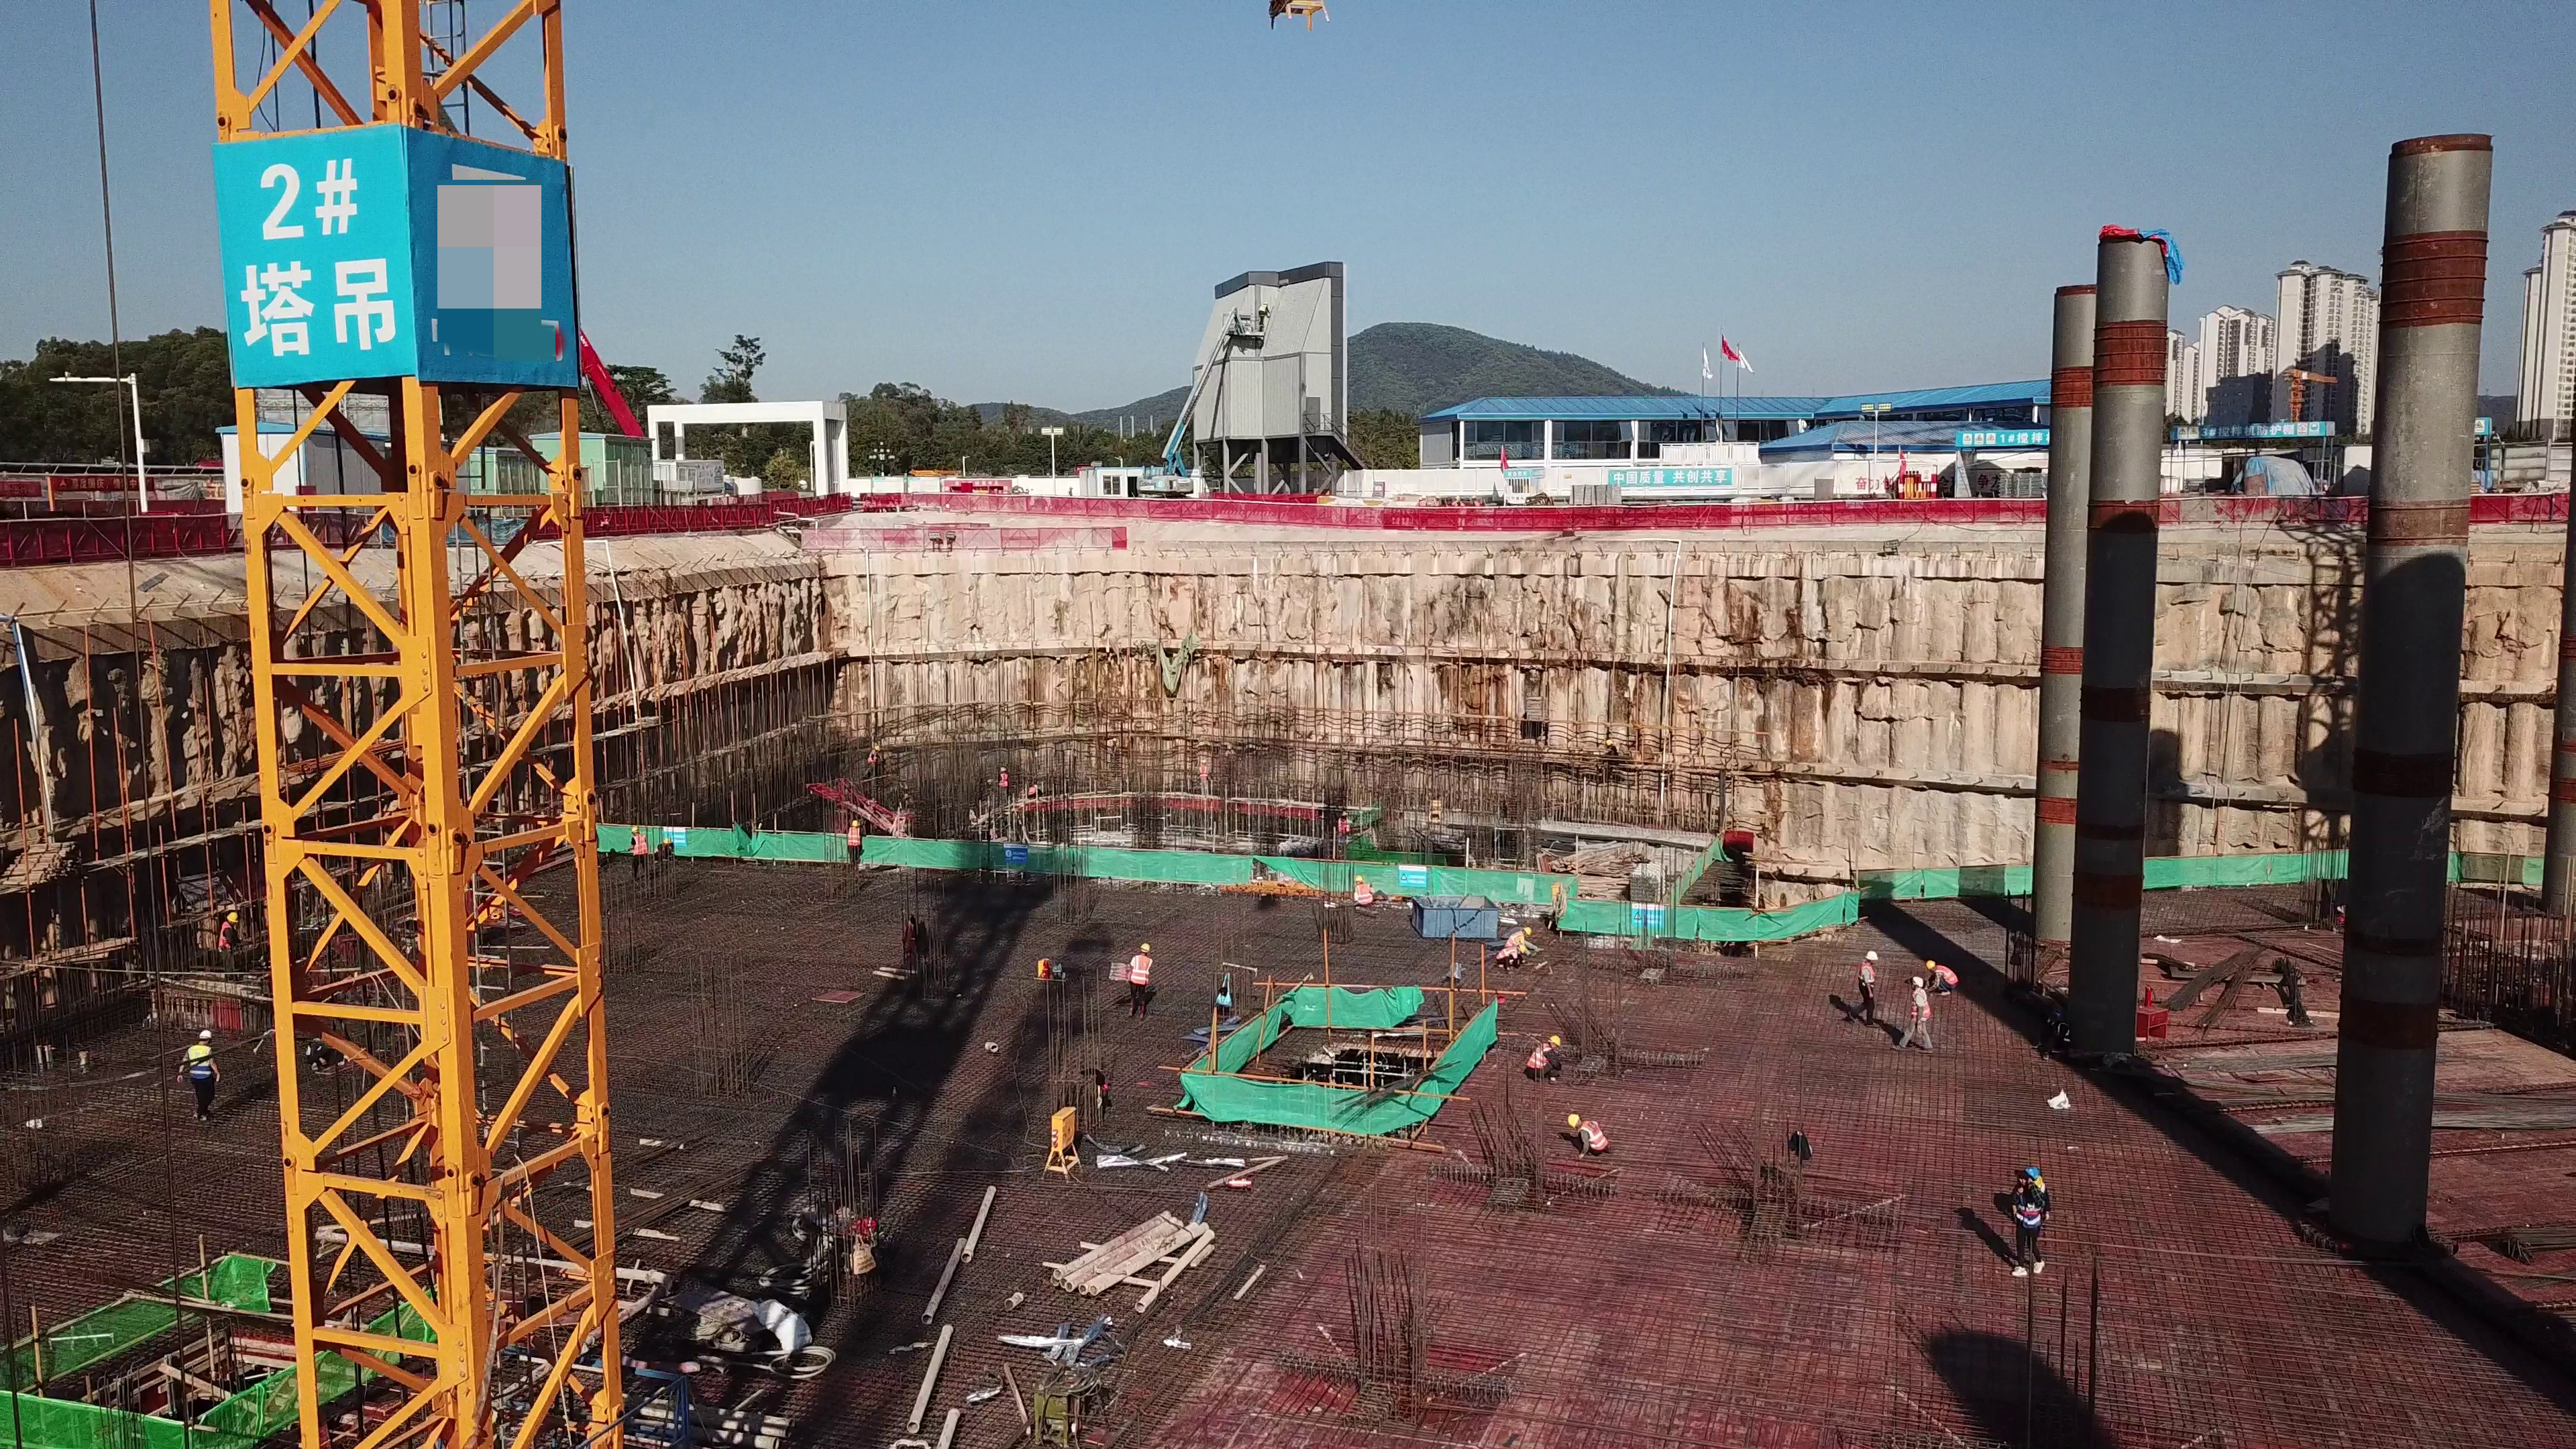brick: (1567, 473, 1621, 507)
ebox: (1046, 1108, 1101, 1179)
fence: (1383, 499, 1891, 538), (617, 502, 804, 540)
helmet: (2025, 1168, 2043, 1181), (1568, 1114, 1580, 1130), (197, 1030, 213, 1040), (227, 913, 241, 926), (1140, 943, 1154, 955), (1549, 1035, 1562, 1047), (1522, 926, 1534, 936), (1353, 875, 1367, 882), (1909, 976, 1923, 986), (1866, 949, 1876, 961), (1925, 958, 1933, 969), (1517, 944, 1526, 954), (661, 837, 672, 843), (873, 744, 882, 750), (631, 825, 639, 832), (851, 820, 860, 826), (999, 766, 1008, 771)
hopper: (1413, 878, 1503, 949)
person: (2006, 1161, 2060, 1280), (172, 1026, 228, 1130), (1126, 938, 1163, 1027), (1854, 944, 1883, 1035), (1899, 975, 1930, 1054), (1566, 1110, 1617, 1157), (1529, 1035, 1566, 1093), (217, 906, 244, 972), (843, 816, 868, 878), (1926, 955, 1960, 1000), (627, 822, 651, 875), (1192, 757, 1217, 802), (1352, 871, 1377, 910), (1495, 943, 1528, 971), (992, 763, 1012, 804), (864, 743, 883, 780), (1503, 926, 1534, 946), (1025, 784, 1049, 807), (1604, 737, 1623, 755)
scaffold: (1631, 866, 1666, 904)
slogan: (222, 144, 418, 381), (2176, 418, 2328, 447), (1946, 426, 2062, 456), (1606, 465, 1729, 489)
vest: (2013, 1183, 2043, 1229), (188, 1046, 209, 1083), (1582, 1122, 1608, 1149), (1911, 989, 1932, 1022), (219, 924, 240, 952), (1132, 954, 1149, 986), (1529, 1042, 1549, 1068), (1937, 967, 1960, 988), (1858, 963, 1872, 989), (631, 835, 647, 859), (848, 828, 861, 851), (1356, 885, 1371, 904), (1499, 946, 1514, 961), (866, 750, 879, 768), (1198, 766, 1210, 782), (1505, 932, 1521, 943), (998, 774, 1010, 787), (1027, 786, 1037, 797)
wood: (1580, 839, 1632, 896)
